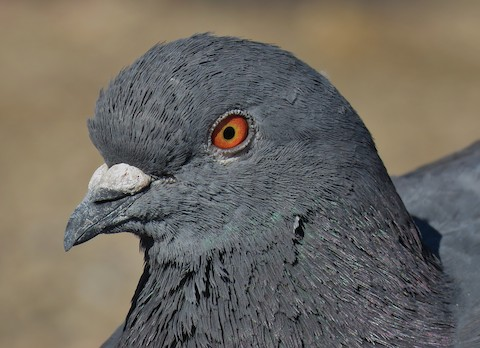pigeon: (59, 28, 463, 335)
